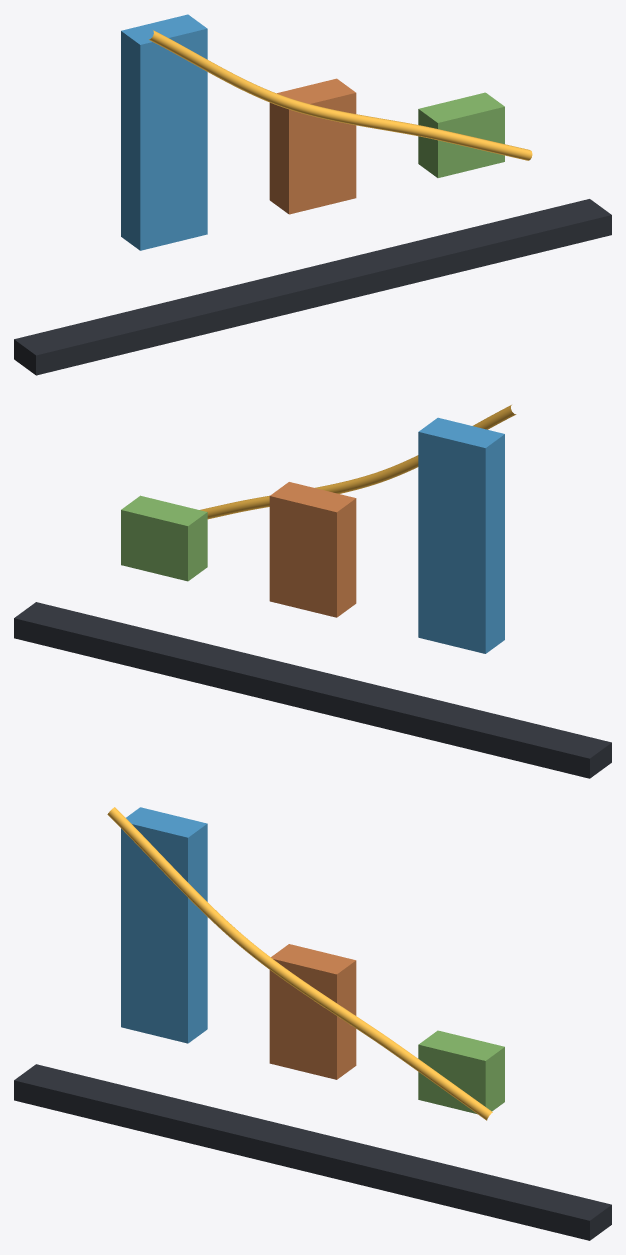
Rendered from physics-modern-half-life.glb.
3 renders of one model, top to bottom at view 1: azimuth 30°, elevation 25°; view 2: azimuth 150°, elevation 25°; view 3: azimuth 330°, elevation 25°, orthographic.
Parts seen in each view (by area): view 1: modern-physics-bench, start-amount-column, half-mark-column, quarter-remain-column, decay-curve-falling-halves; view 2: modern-physics-bench, start-amount-column, half-mark-column, quarter-remain-column, decay-curve-falling-halves; view 3: modern-physics-bench, start-amount-column, half-mark-column, decay-curve-falling-halves, quarter-remain-column.
Part boxes in pixels (x1,y1,x2,y2): modern-physics-bench: (14, 199, 611, 375); start-amount-column: (121, 14, 207, 250); half-mark-column: (269, 78, 356, 214); quarter-remain-column: (418, 92, 504, 177); decay-curve-falling-halves: (149, 30, 532, 160); modern-physics-bench: (14, 602, 611, 778); start-amount-column: (418, 417, 504, 653); half-mark-column: (269, 482, 356, 617); quarter-remain-column: (121, 495, 207, 581); decay-curve-falling-halves: (200, 405, 516, 519); modern-physics-bench: (14, 1064, 611, 1240); start-amount-column: (121, 807, 207, 1043); half-mark-column: (269, 944, 356, 1079); decay-curve-falling-halves: (107, 807, 492, 1120); quarter-remain-column: (418, 1030, 504, 1114).
Size of what is drawn, in the model's own units: 2.4 by 1.3 by 0.24.
